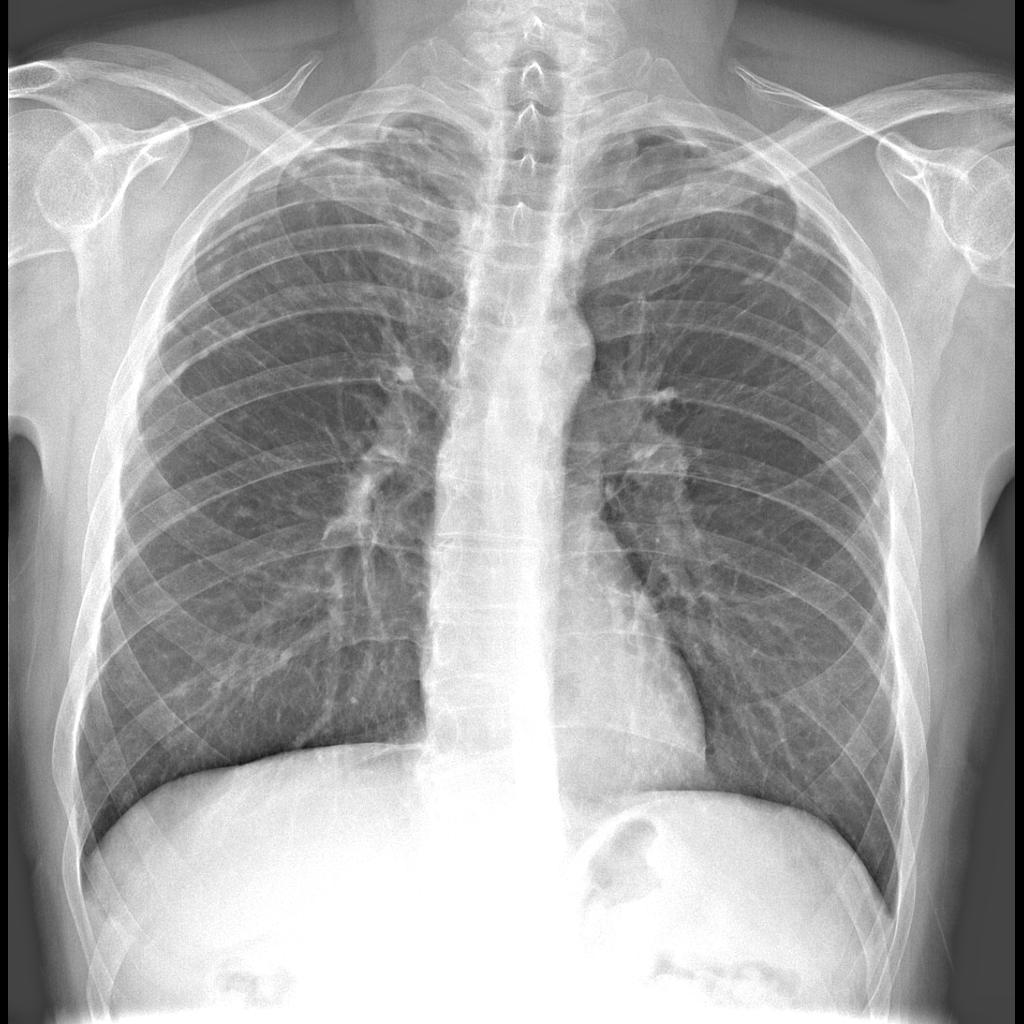Nodule: (398, 369, 419, 389)
